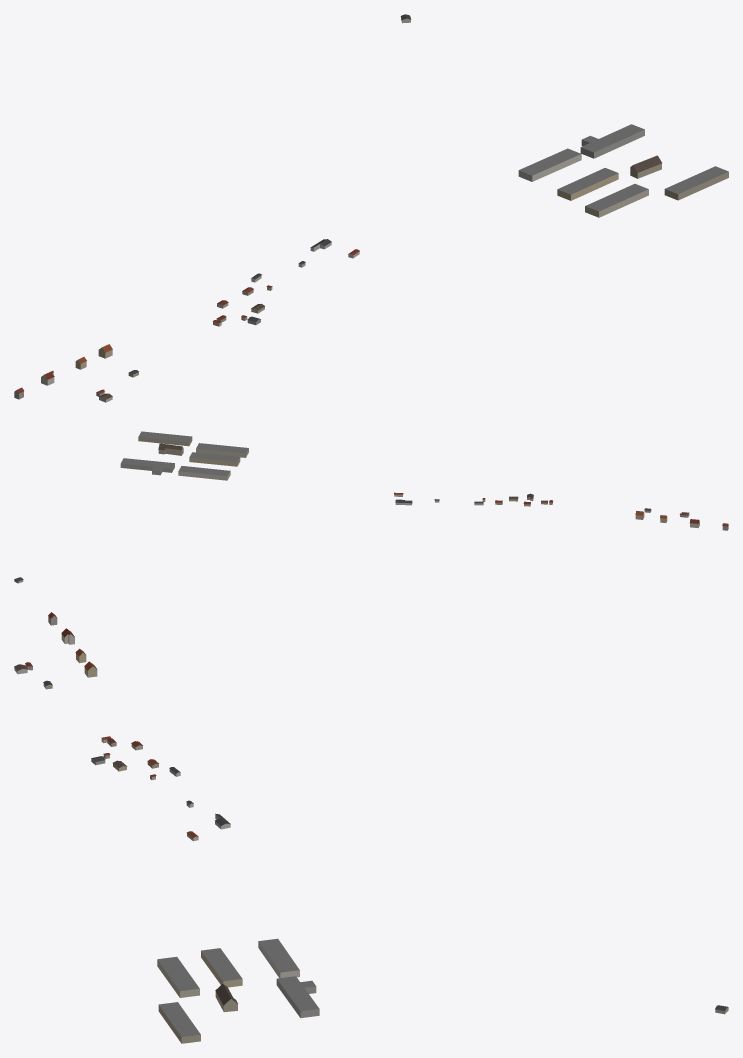
3 views of the same model, one above another, from view 1: azimuth 30°, elevation 25°; view 2: azimuth 150°, elevation 25°; view 3: azimuth 270°, elevation 25° (orthographic). The views are drawn at different scales.
Parts seen in each view (by area): view 1: buildings; view 2: buildings; view 3: buildings.
Part boxes in pixels (box(x1,y1,x2,y2)): buildings: box(14, 14, 728, 402); buildings: box(14, 431, 728, 583); buildings: box(14, 612, 728, 1043).
Size of the model in its own units: 773 by 30.24 by 569.
